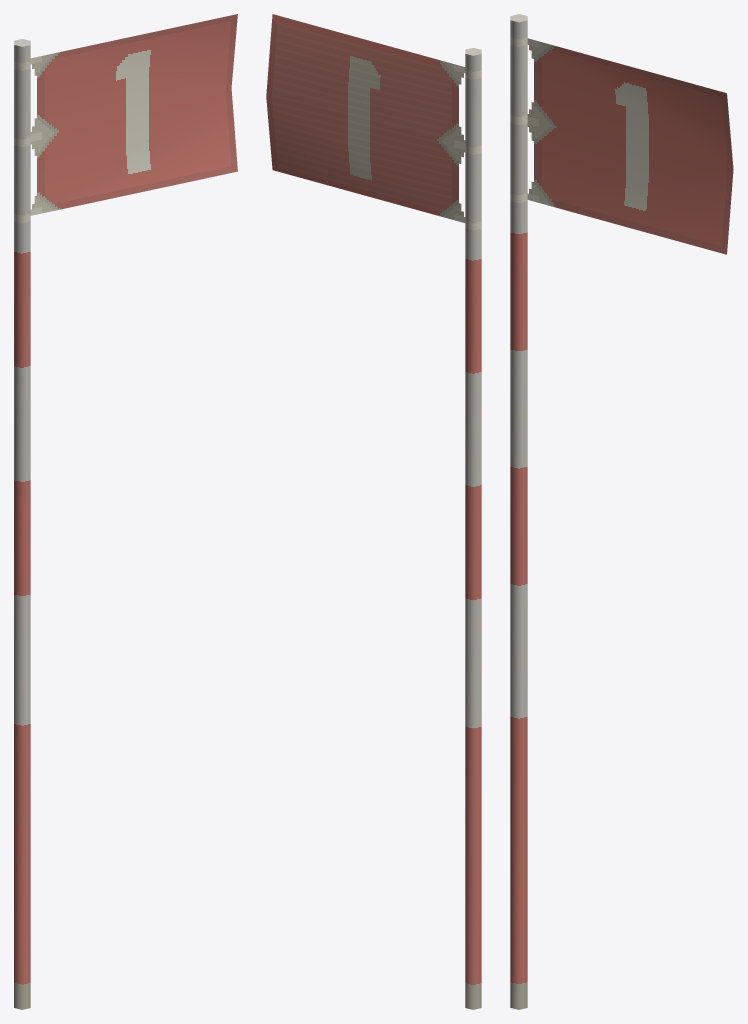
File: 04d9_Flagstick.glb
3 views of the same model, side by side, from view 1: azimuth 30°, elevation 25°; view 2: azimuth 150°, elevation 25°; view 3: azimuth 330°, elevation 25° (orthographic). The views are drawn at different scales.
Parts seen in each view (by area): view 1: part_0; view 2: part_0; view 3: part_0.
Part boxes in pixels (x1,y1,x2,y2): part_0: (14, 14, 237, 1009); part_0: (266, 14, 481, 1009); part_0: (510, 14, 733, 1009).
Bounding box in the file's own units: 0.26 × 1.1 × 0.0218.
Materials: 1 (1 with a texture image).
